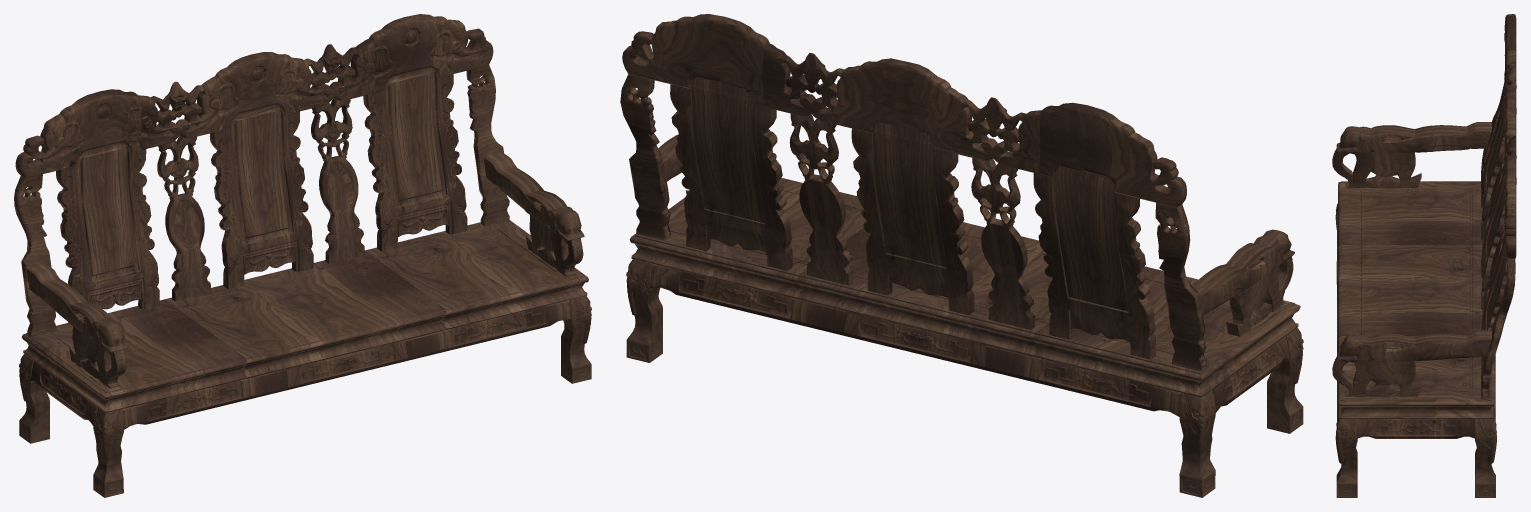
File: long_chair.fbx
The picture shows the model from 3 angles, left to right: view 1: azimuth 30°, elevation 25°; view 2: azimuth 150°, elevation 25°; view 3: azimuth 270°, elevation 25°; orthographic projection. The views are drawn at different scales.
Parts seen in each view (by area): view 1: long_chair; view 2: long_chair; view 3: long_chair.
Boxes of the visible parts, left/top/right/bottom form: long_chair: left=14, top=14, right=591, bottom=497; long_chair: left=620, top=14, right=1303, bottom=497; long_chair: left=1332, top=14, right=1516, bottom=497.
Bounding box in the file's own units: 191 × 118 × 66.61.
Materials: 1 (1 with a texture image).
